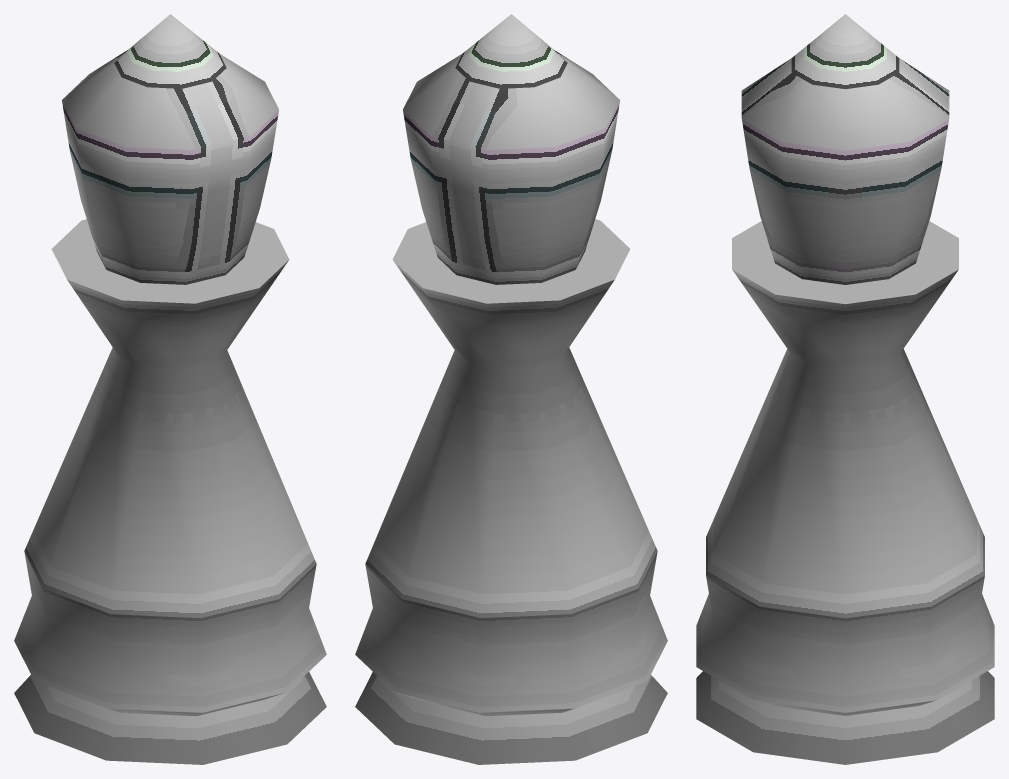
Rendered from rmk_chs_bishop_mtl.dae.
The picture shows the model from 3 angles, left to right: view 1: azimuth 30°, elevation 25°; view 2: azimuth 150°, elevation 25°; view 3: azimuth 270°, elevation 25°; orthographic projection.
Parts seen in each view (by area): view 1: rmk_chs_bishop_mtl; view 2: rmk_chs_bishop_mtl; view 3: rmk_chs_bishop_mtl.
Boxes of the visible parts, bbox=[...] form: rmk_chs_bishop_mtl: bbox=[14, 14, 326, 764]; rmk_chs_bishop_mtl: bbox=[355, 14, 667, 764]; rmk_chs_bishop_mtl: bbox=[696, 14, 994, 764].
Size of the model in its own units: 25.6 by 61.6 by 24.35.
Materials: 1 (1 with a texture image).
